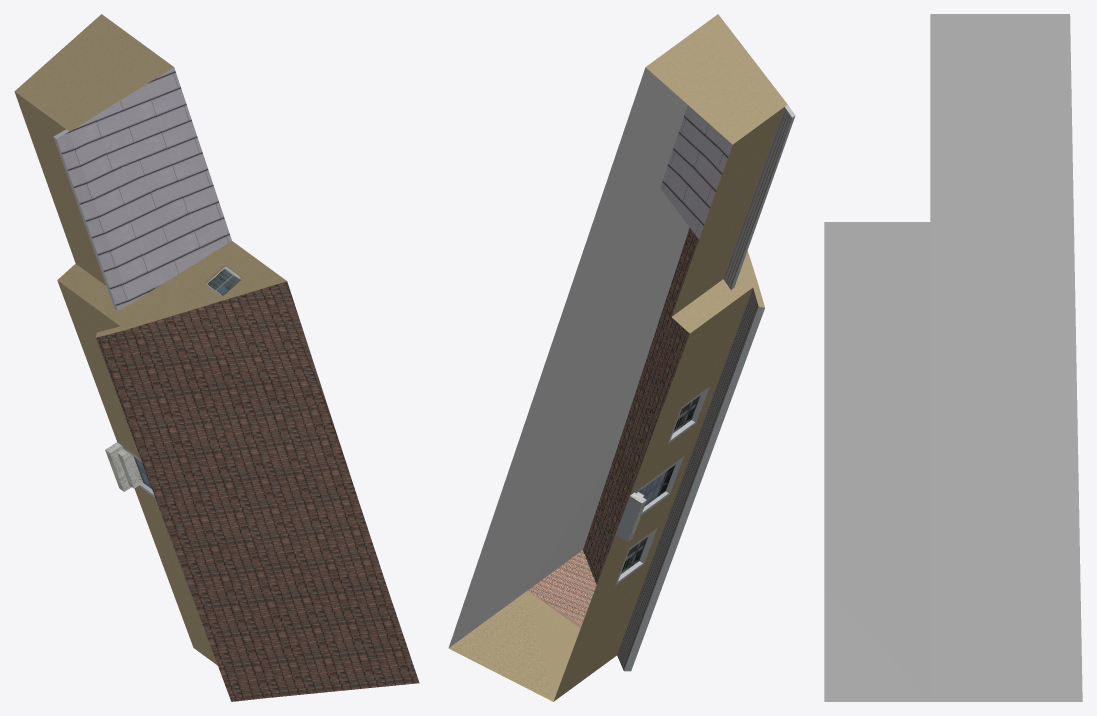
Rendered from Myyrivahe_62a_1.obj.
3 renders of one model, left to right at view 1: azimuth 30°, elevation 25°; view 2: azimuth 150°, elevation 25°; view 3: azimuth 270°, elevation 25°, orthographic. The views are drawn at different scales.
Parts seen in each view (by area): view 1: Myyrivahe_62a_1; view 2: Myyrivahe_62a_1, xxx; view 3: xxx.
Part boxes in pixels (box(x1,y1,x2,y2)): Myyrivahe_62a_1: box(14, 14, 419, 701); Myyrivahe_62a_1: box(553, 14, 795, 701); xxx: box(448, 67, 689, 701); xxx: box(824, 14, 1082, 701).
Bounding box in the file's own units: 8.83 × 19.46 × 7.14.
